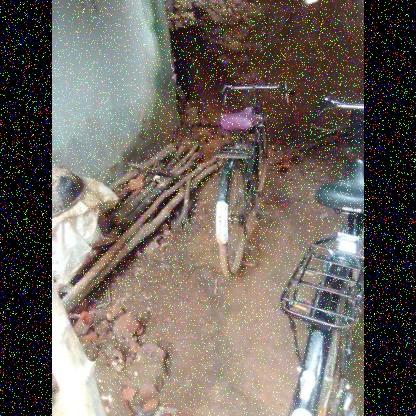Bicycle: (256, 76, 366, 405), (191, 73, 282, 294)
